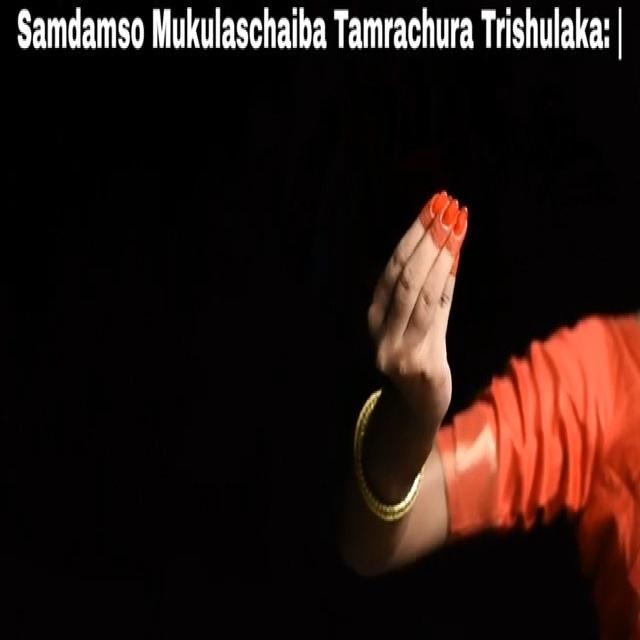Mukula: (369, 164, 474, 464)
bangle: (341, 390, 426, 529)
text: (13, 0, 631, 75)
